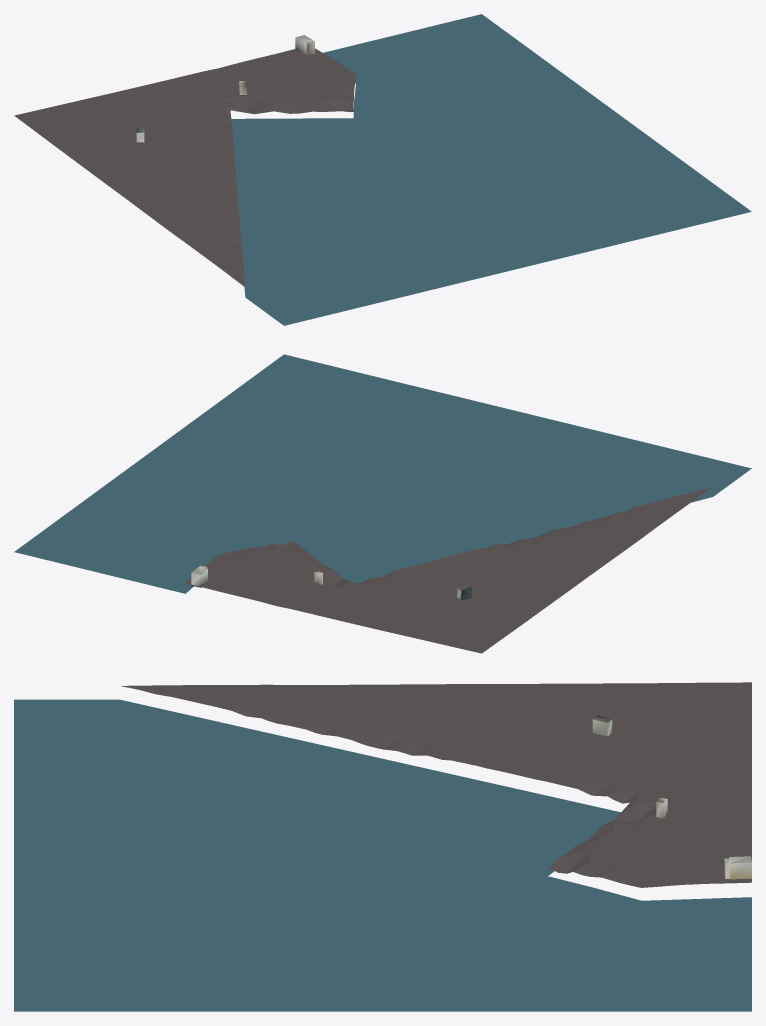
3 renders of one model, top to bottom at view 1: azimuth 30°, elevation 25°; view 2: azimuth 150°, elevation 25°; view 3: azimuth 270°, elevation 25°, orthographic. The views are drawn at different scales.
Parts seen in each view (by area): view 1: c_m13_p12; view 2: c_m13_p12; view 3: c_m13_p12.
Part boxes in pixels (left/top/right/bottom): c_m13_p12: left=14, top=14, right=751, bottom=325; c_m13_p12: left=14, top=354, right=751, bottom=653; c_m13_p12: left=14, top=682, right=751, bottom=1011.
Bounding box in the file's own units: 128 × 5.87 × 128.
